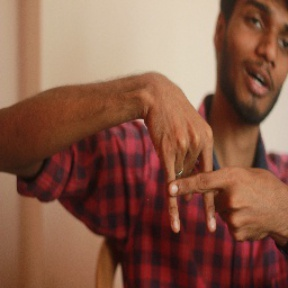H: (146, 127, 245, 243)
